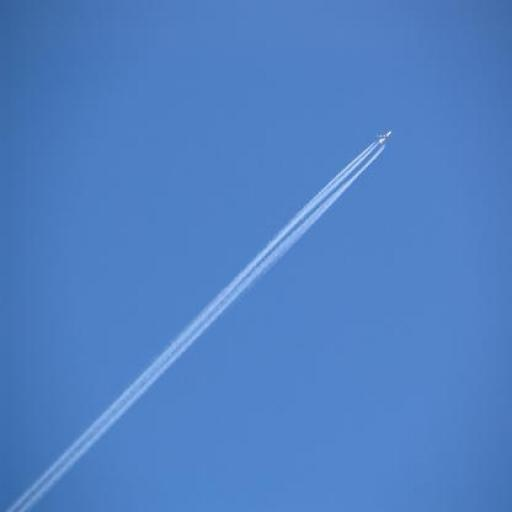aircraft: (369, 122, 404, 148)
